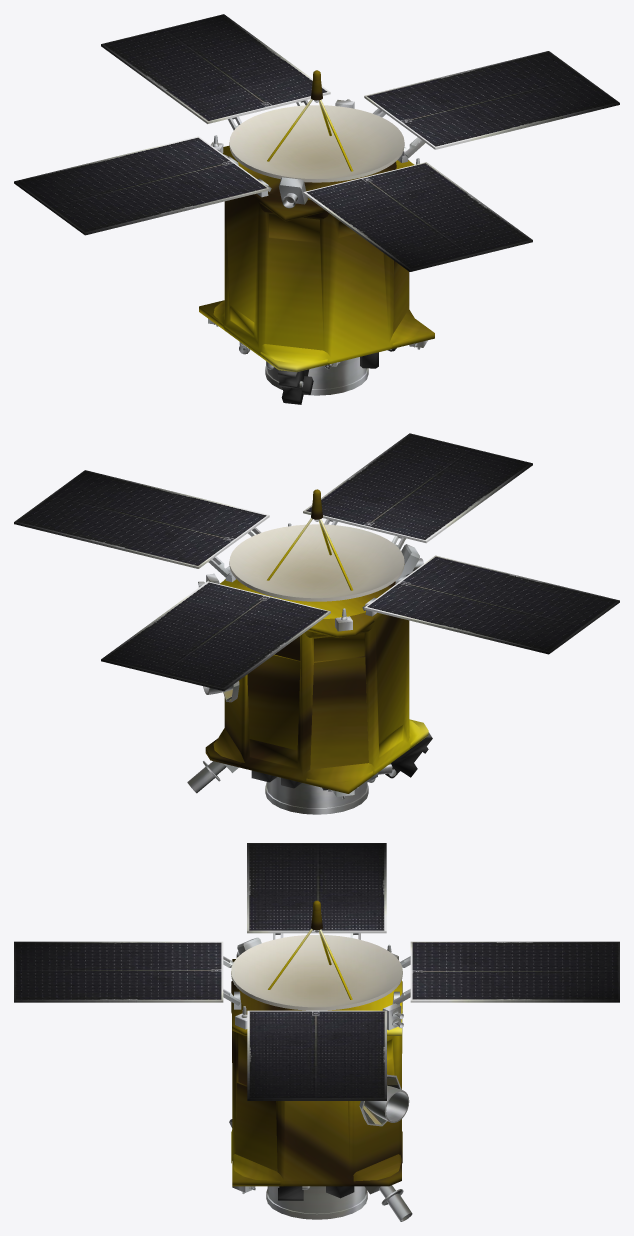
Rendered from near_shoemaker.glb.
3 views of the same model, one above another, from view 1: azimuth 30°, elevation 25°; view 2: azimuth 150°, elevation 25°; view 3: azimuth 270°, elevation 25° (orthographic).
Parts seen in each view (by area): view 1: tex_01, foil_gold, foil_silver; view 2: tex_01, foil_gold, foil_silver; view 3: tex_01, foil_gold, foil_silver.
Part boxes in pixels (x1=…): tex_01: x1=14, y1=14, x2=619, y2=395; foil_gold: x1=199, y1=70, x2=434, y2=372; foil_silver: x1=277, y1=348, x2=396, y2=404; tex_01: x1=14, y1=433, x2=619, y2=814; foil_gold: x1=205, y1=489, x2=428, y2=793; foil_silver: x1=251, y1=732, x2=432, y2=790; tex_01: x1=14, y1=843, x2=619, y2=1221; foil_gold: x1=231, y1=900, x2=402, y2=1186; foil_silver: x1=229, y1=1119, x2=354, y2=1200.
Size of the model in its own units: 5.29 by 2.86 by 5.29.
3 materials, 3 textured.
